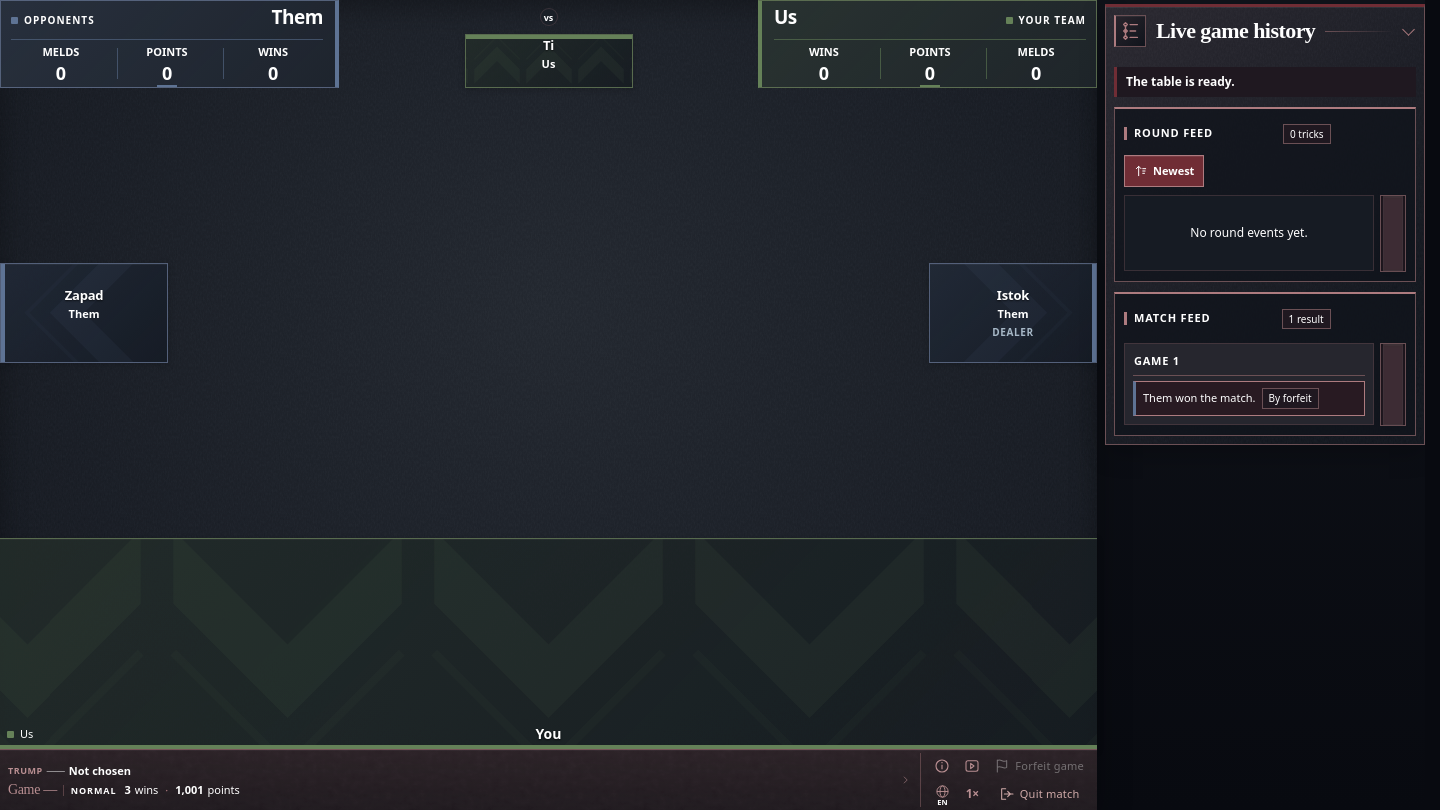
Test: quit match ends the current match and shows the match-complete popup
Click the button "Quit match" at x=1039, y=794, box [989,781,1089,807]
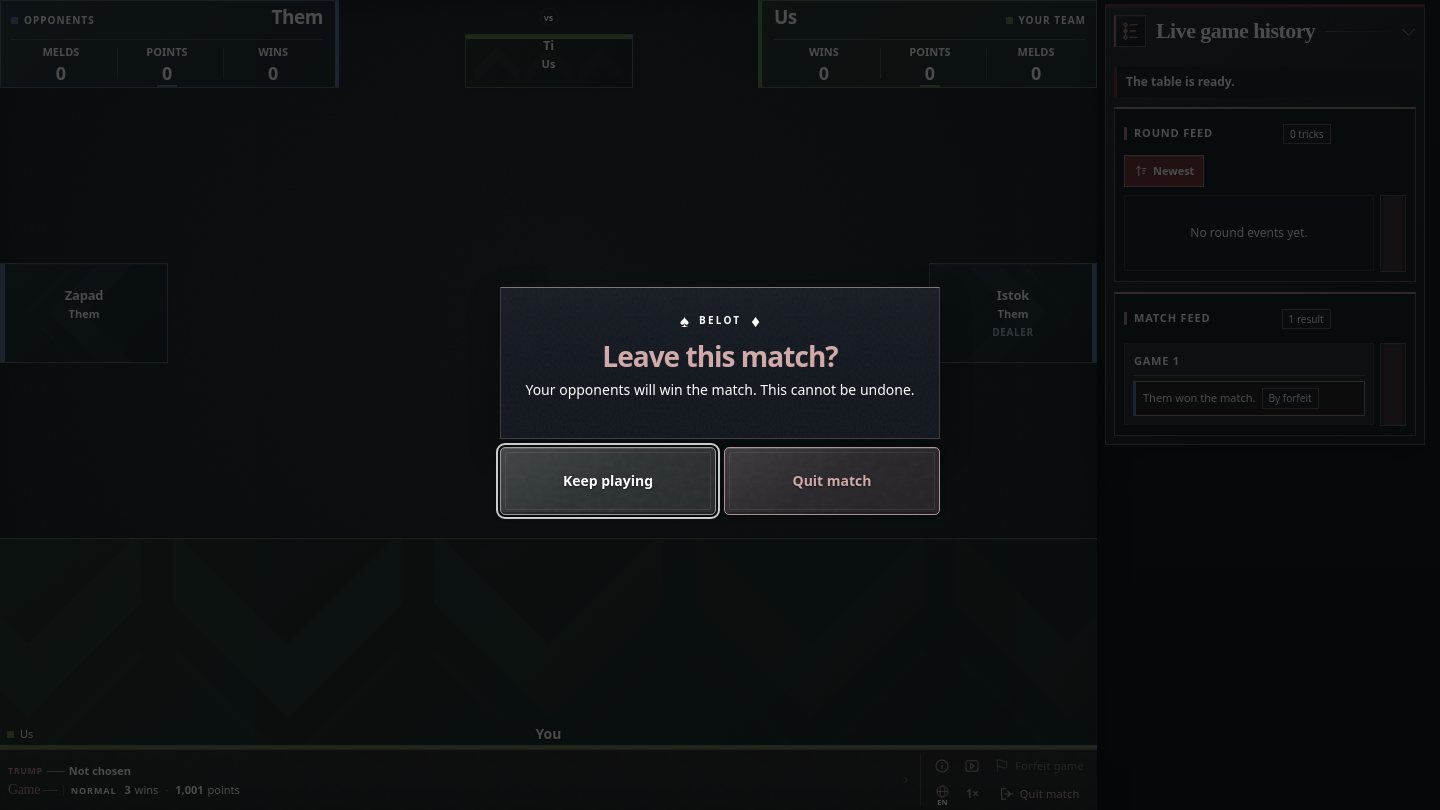
Click the button "Keep playing" at x=608, y=481, box [500,447,716,515]
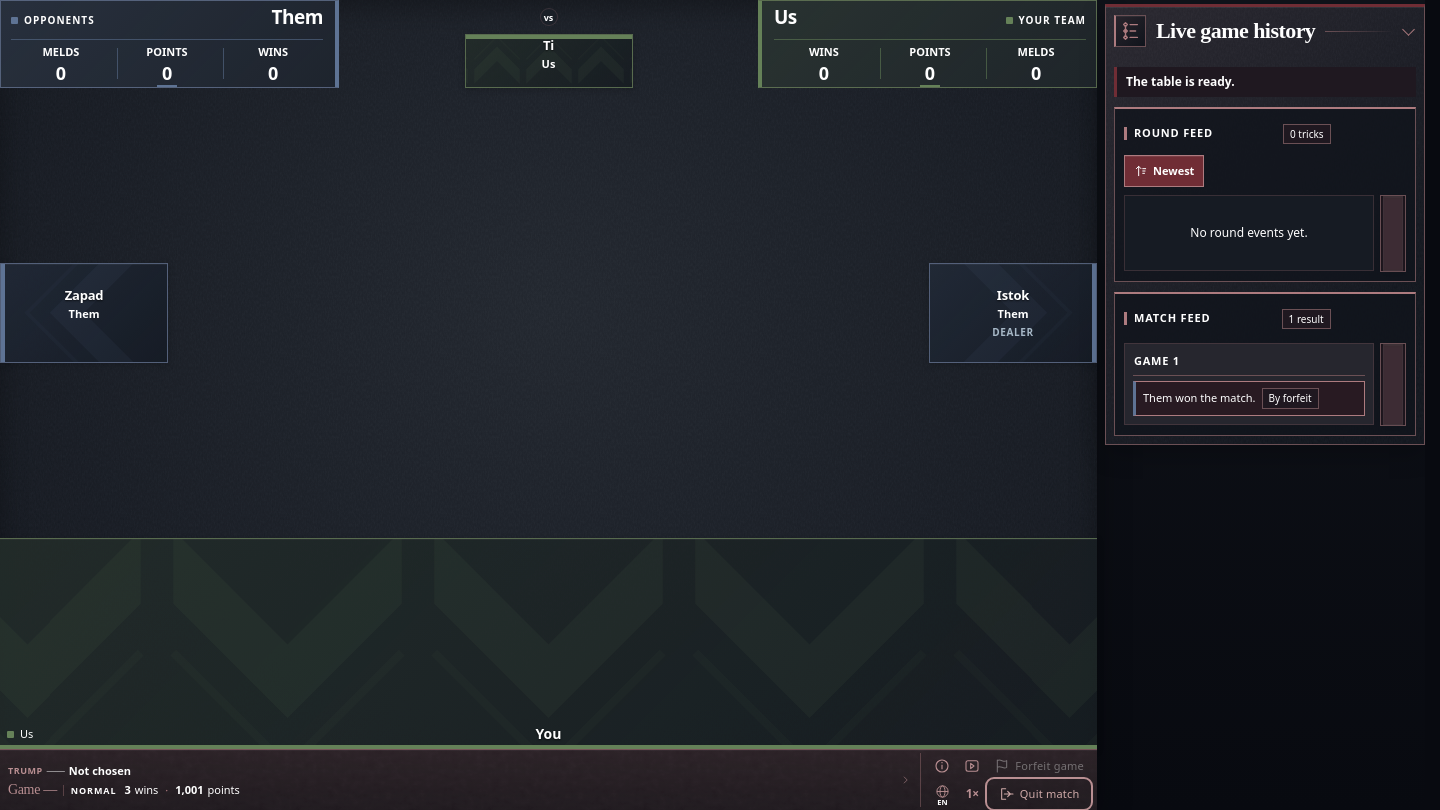
Now the heading "Leave this match?" is gone
Click the button "Quit match" at x=1039, y=794, box [989,781,1089,807]
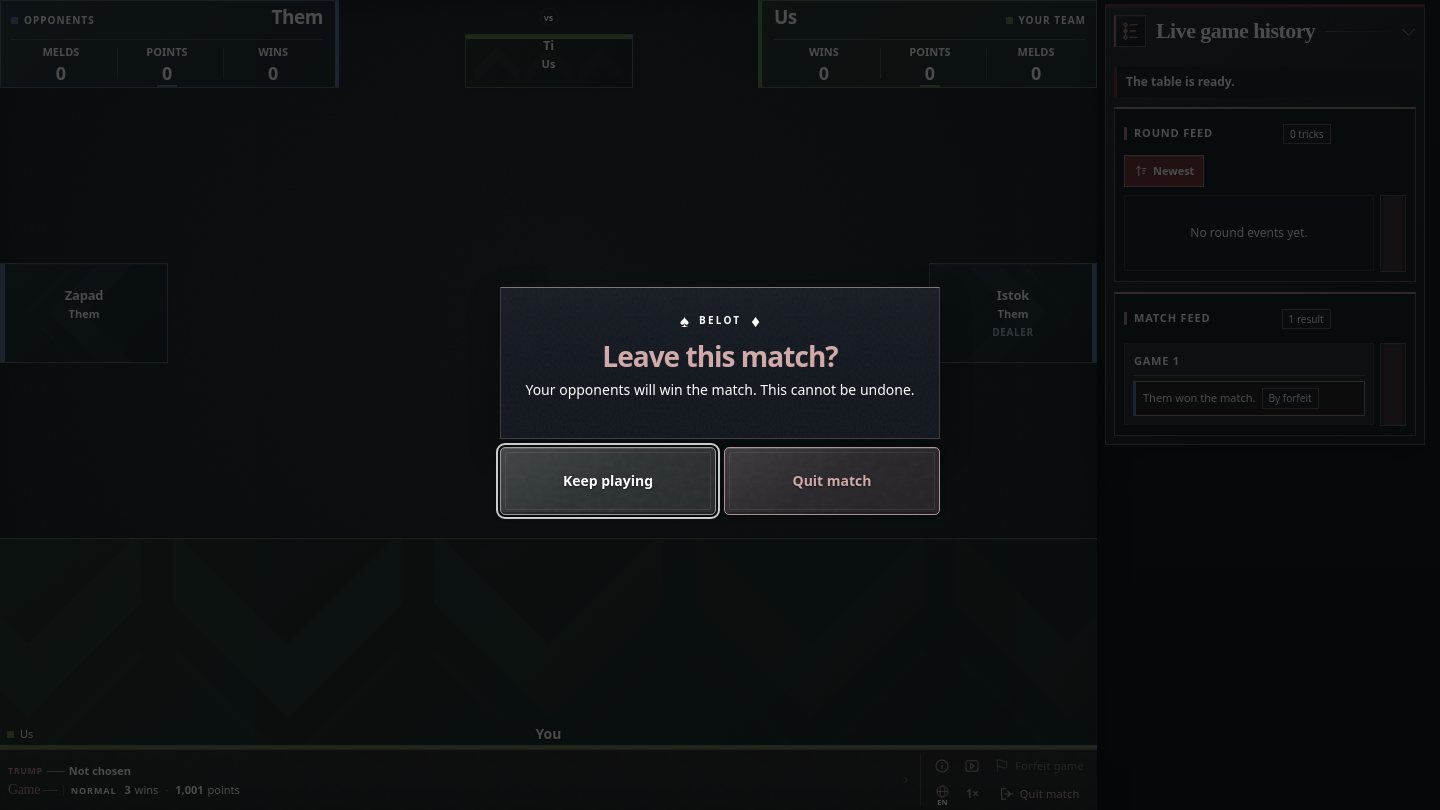
Click the button "Quit match" at x=832, y=481, box [724,447,940,515]
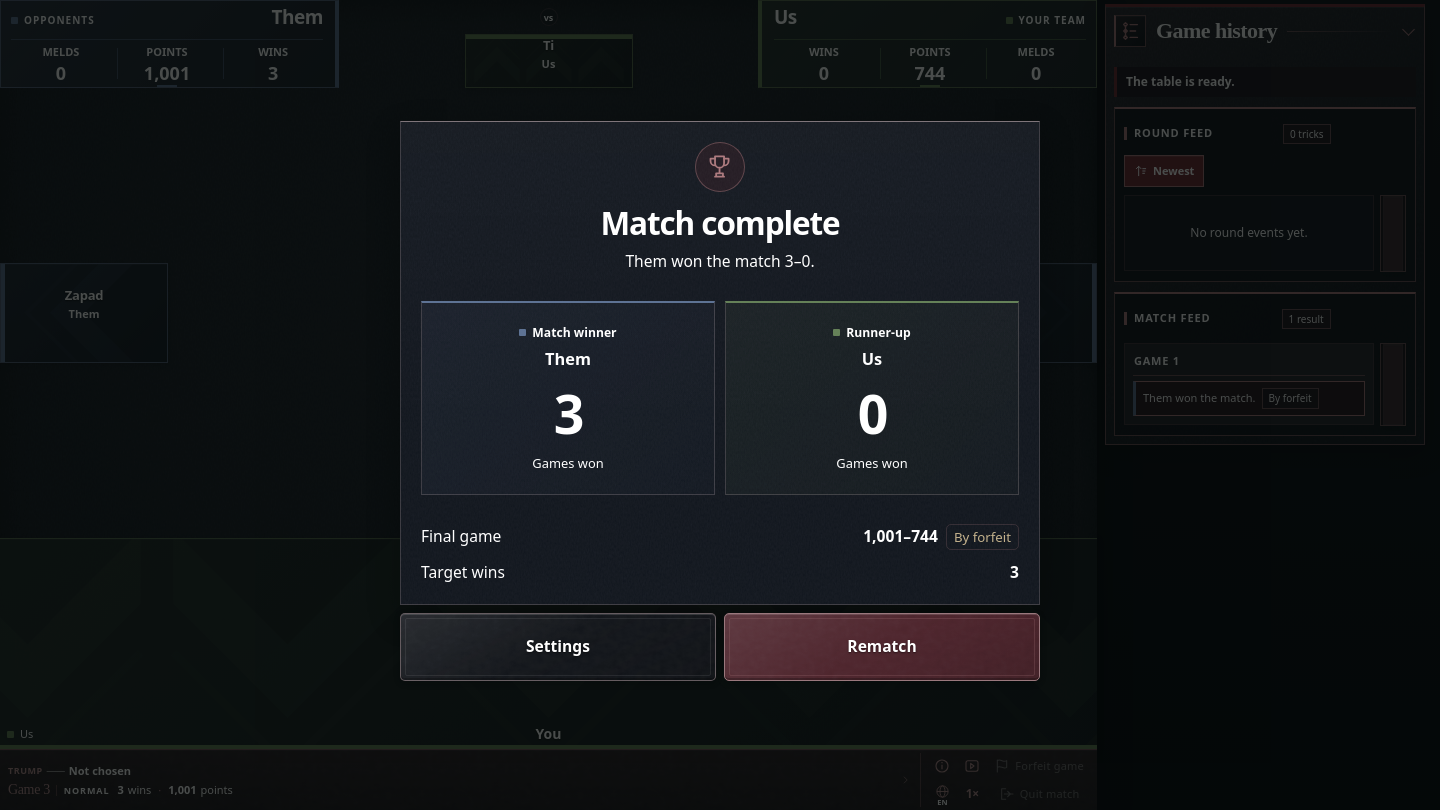
Now the dialog "Match complete" is shown
